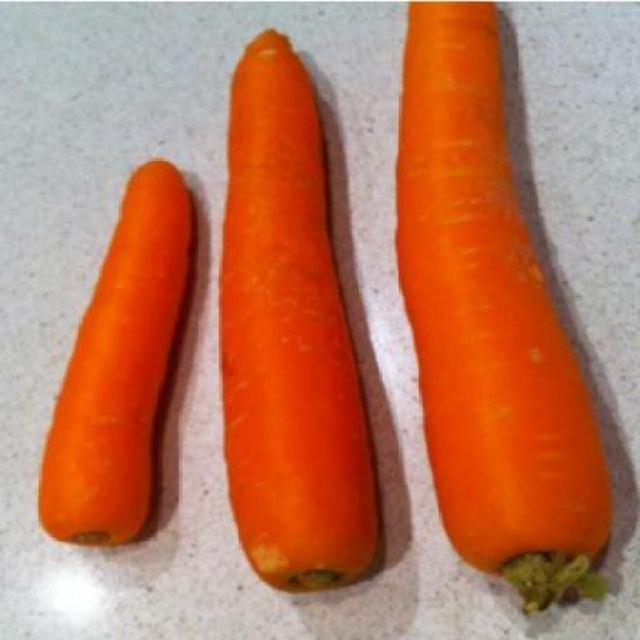carrot: (398, 3, 610, 621), (221, 29, 390, 601), (35, 160, 199, 554)
